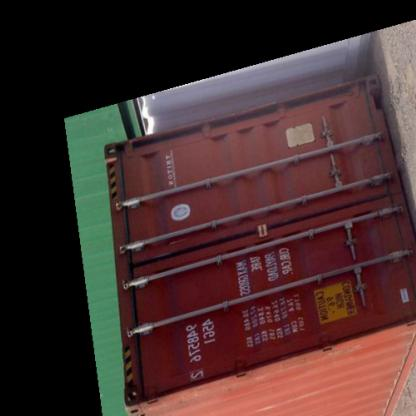Damage: (298, 238, 347, 275)
